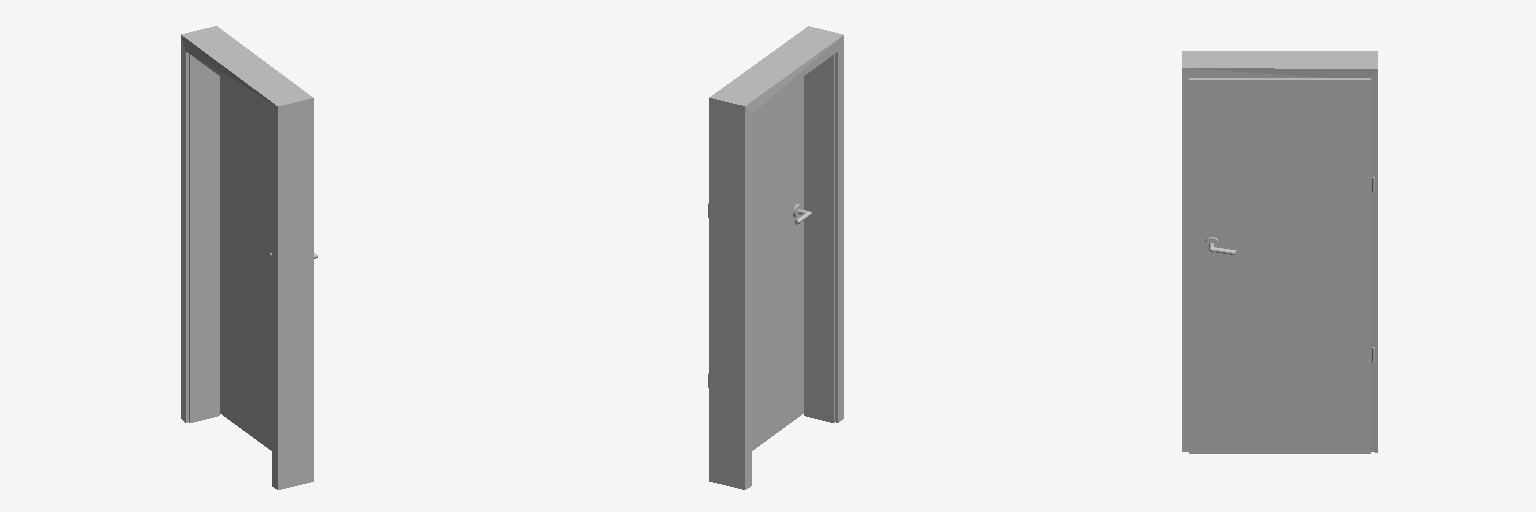
The model's file is door96.obj.
The picture shows the model from 3 angles: view 1: azimuth 30°, elevation 25°; view 2: azimuth 150°, elevation 25°; view 3: azimuth 270°, elevation 25°; orthographic projection.
Parts seen in each view (by area): view 1: Cylinder.005, Cylinder.001; view 2: Cylinder.005, Cylinder.001; view 3: Cylinder.001, Cylinder.005.
Part boxes in pixels (x1,y1,x2,y2): Cylinder.005: (181, 26, 313, 489); Cylinder.001: (220, 77, 271, 450); Cylinder.005: (708, 26, 843, 489); Cylinder.001: (708, 77, 803, 450); Cylinder.001: (1189, 78, 1374, 453); Cylinder.005: (1182, 51, 1377, 452).
Bounding box in the file's own units: 0.3039 × 2.05 × 0.95.